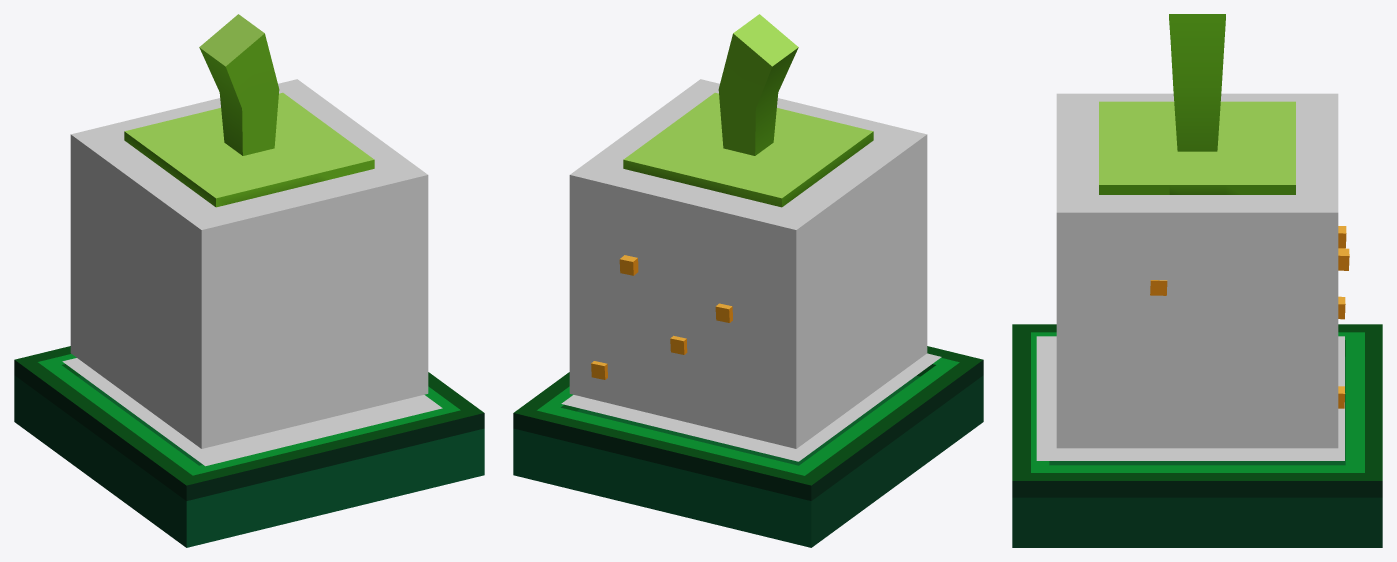
File: Tower_Goo_L5.fbx
3 renders of one model, left to right at view 1: azimuth 30°, elevation 25°; view 2: azimuth 150°, elevation 25°; view 3: azimuth 270°, elevation 25°, orthographic. The views are drawn at different scales.
Visible parts, largest first — view 1: Stroke, Base, HairTop, Shadow; view 2: Stroke, Base, HairTop, Shadow, Specks; view 3: Stroke, Base, HairTop, Shadow, Specks.
Boxes of the visible parts, x1=… form: Stroke: x1=70, y1=79, x2=428, y2=448; Base: x1=14, y1=346, x2=484, y2=547; HairTop: x1=124, y1=14, x2=374, y2=207; Shadow: x1=62, y1=358, x2=442, y2=466; Stroke: x1=569, y1=79, x2=927, y2=448; Base: x1=513, y1=346, x2=983, y2=547; HairTop: x1=623, y1=14, x2=873, y2=207; Shadow: x1=561, y1=353, x2=941, y2=461; Specks: x1=591, y1=255, x2=732, y2=379; Stroke: x1=1056, y1=93, x2=1338, y2=448; Base: x1=1012, y1=324, x2=1382, y2=547; HairTop: x1=1099, y1=14, x2=1295, y2=194; Shadow: x1=1036, y1=336, x2=1344, y2=460; Specks: x1=1150, y1=226, x2=1349, y2=408.
Size of the model in its own units: 100 by 136 by 100.
